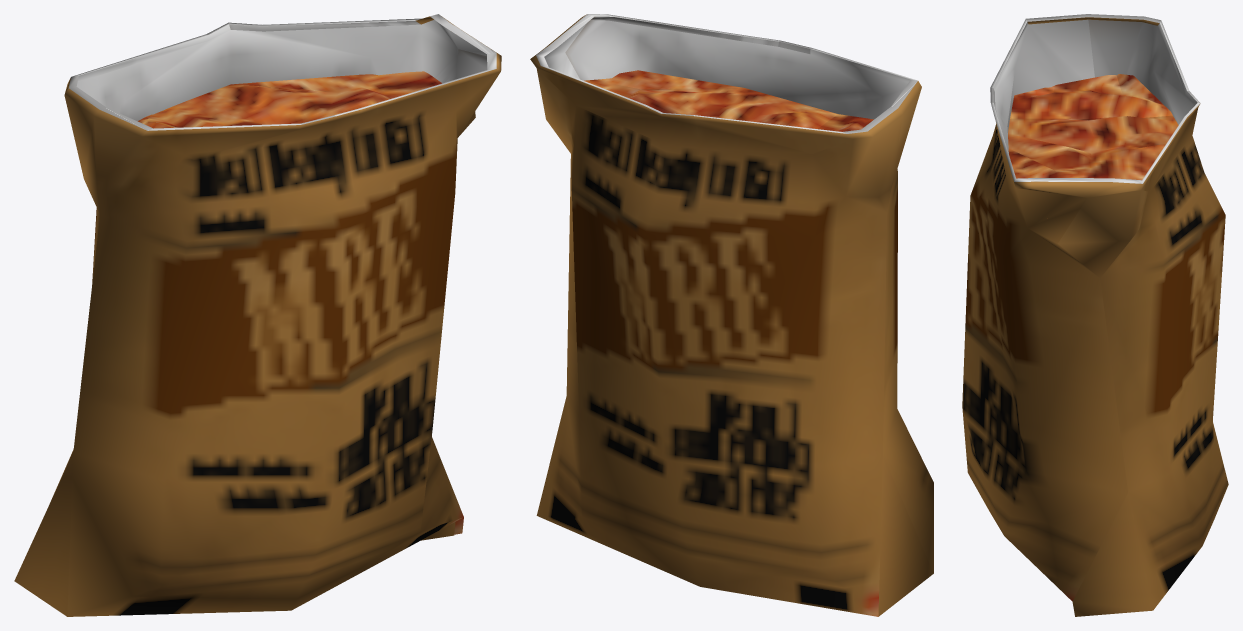
Rendered from MRE_Open.fbx.
3 views of the same model, side by side, from view 1: azimuth 30°, elevation 25°; view 2: azimuth 150°, elevation 25°; view 3: azimuth 270°, elevation 25° (orthographic). The views are drawn at different scales.
Visible parts, largest first — view 1: MRE; view 2: MRE; view 3: MRE.
Part boxes in pixels (left/top/right/bottom): MRE: left=14, top=14, right=501, bottom=616; MRE: left=530, top=14, right=933, bottom=616; MRE: left=962, top=14, right=1228, bottom=616.
Bounding box in the file's own units: 39.39 × 46.8 × 25.12.
